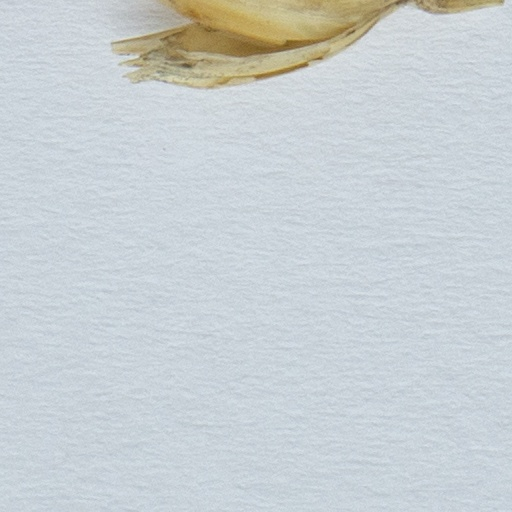Peel-poly: (111, 0, 511, 90)
